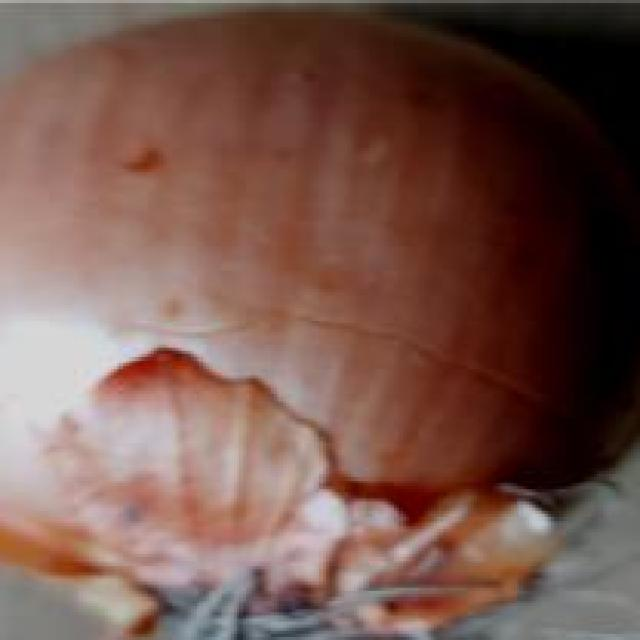onion: (0, 3, 640, 640)
